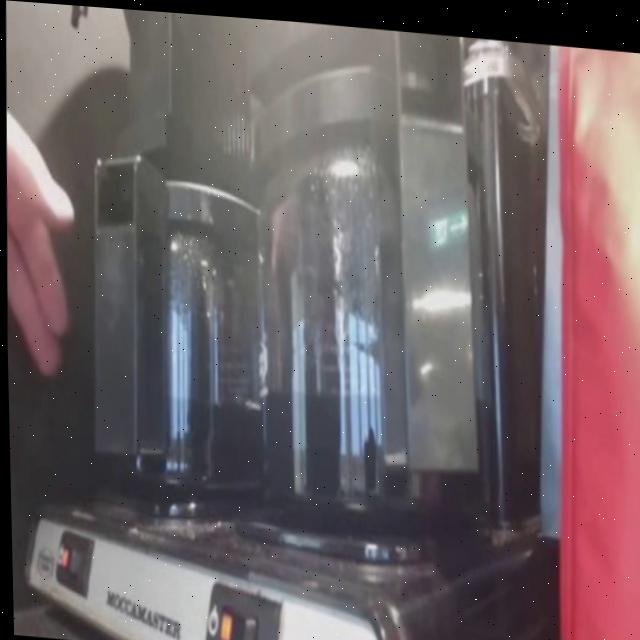coffee: (230, 36, 515, 563), (88, 120, 283, 508)
